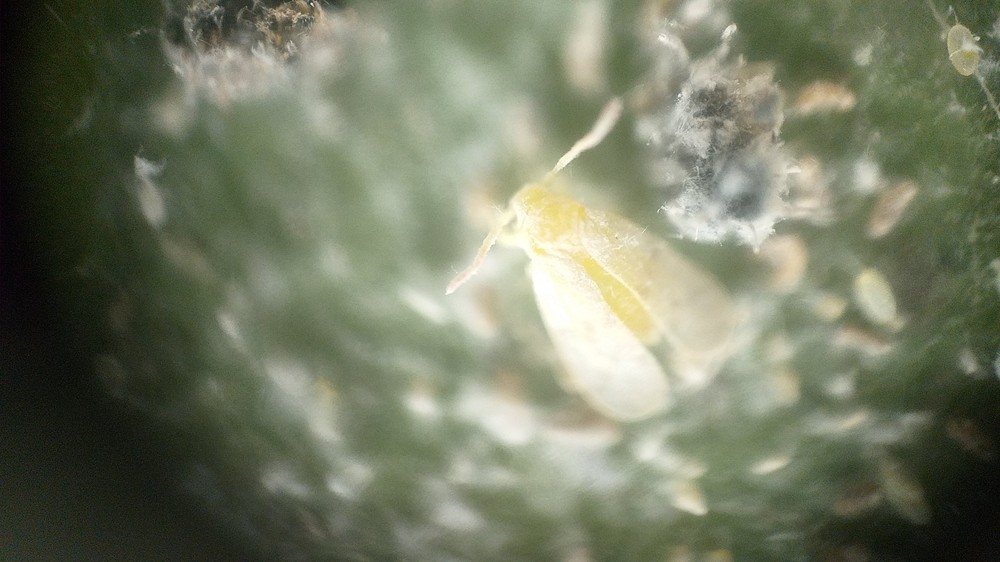Mosca Blanca: (430, 92, 770, 429)
